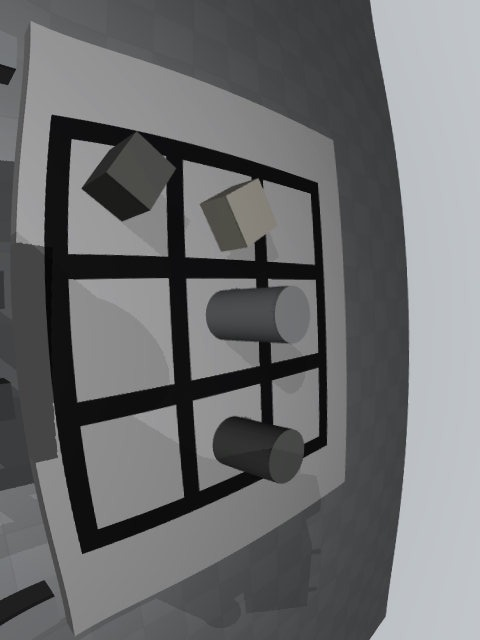can: (206, 286, 310, 343)
cube: (81, 132, 176, 221)
cylinder: (213, 417, 304, 484)
foam: (200, 178, 277, 252)
